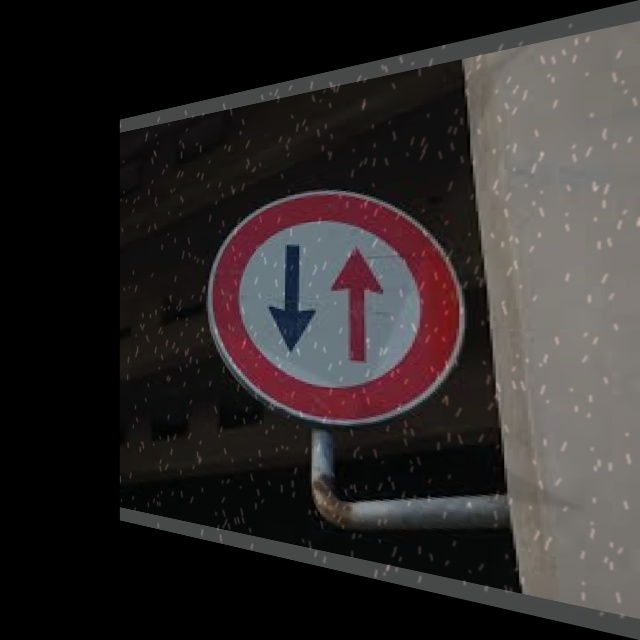Mandatory_Two_Way_Traffic: (208, 172, 482, 430)
